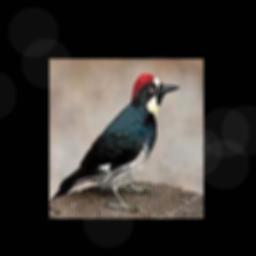Woodpecker: (51, 73, 181, 210)
